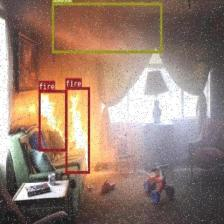smoke: (52, 2, 162, 53)
